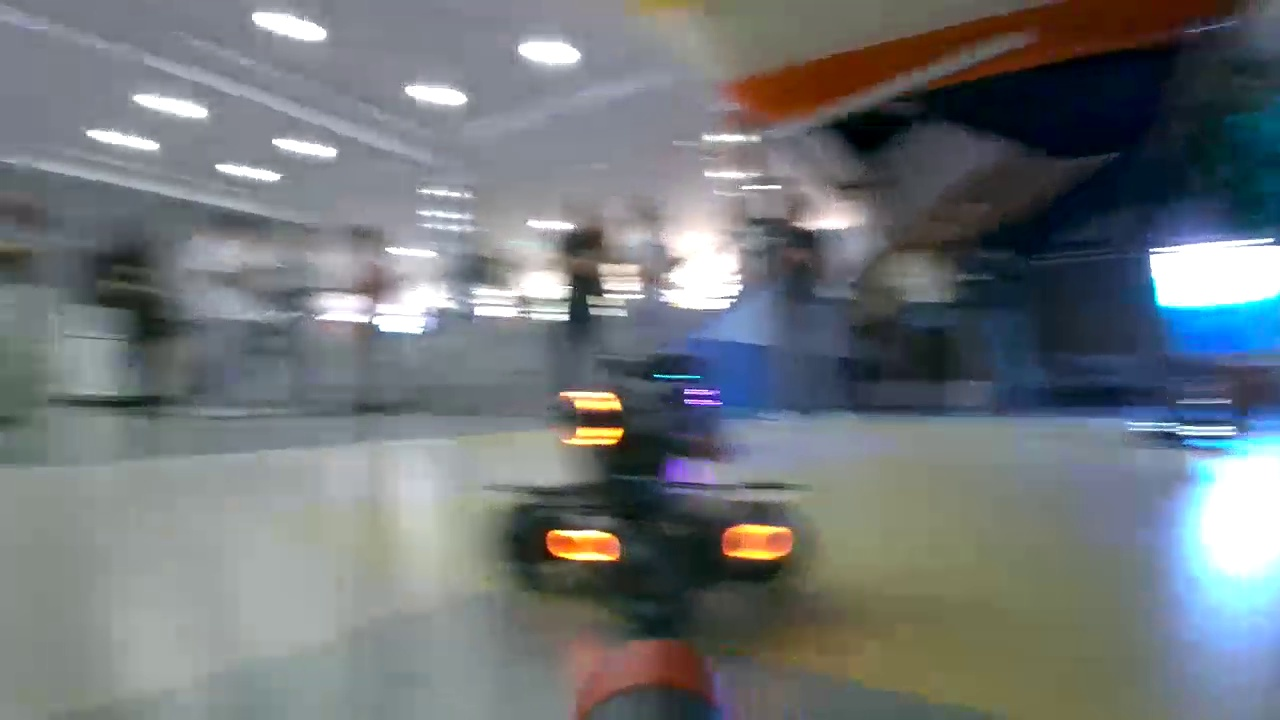robot: (502, 364, 816, 628), (1133, 365, 1260, 448)
